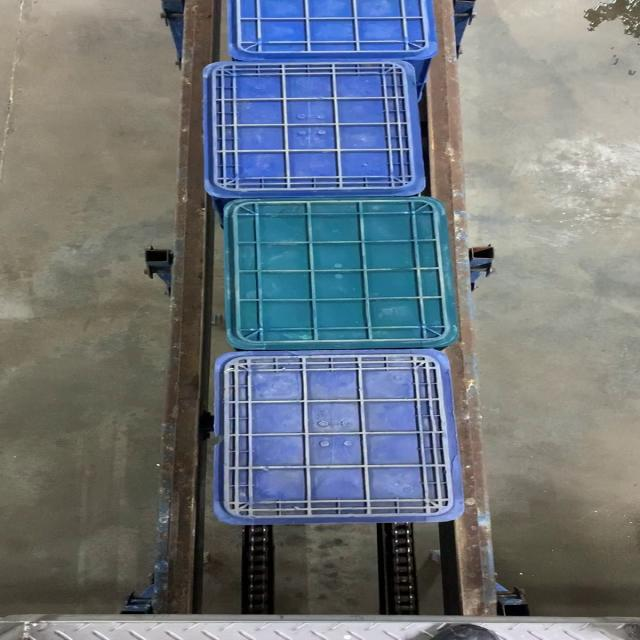Box: (215, 348, 463, 522), (221, 198, 458, 348), (200, 62, 434, 198)
